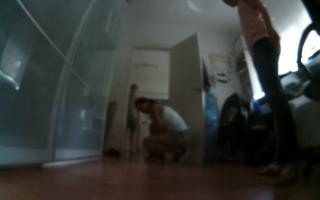person: (223, 1, 298, 180), (135, 97, 194, 168), (123, 80, 142, 163)
